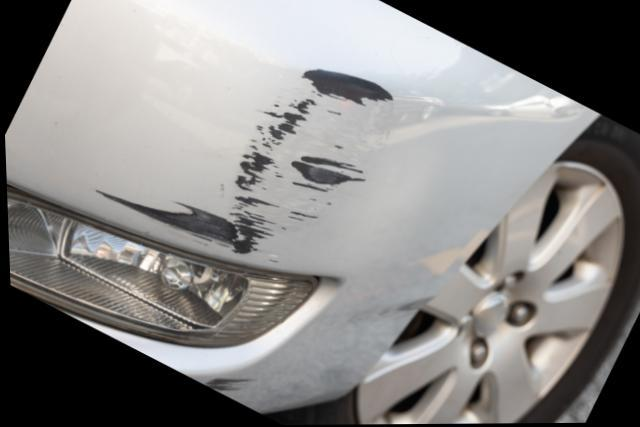scratch: (89, 60, 410, 262), (190, 373, 245, 398)
